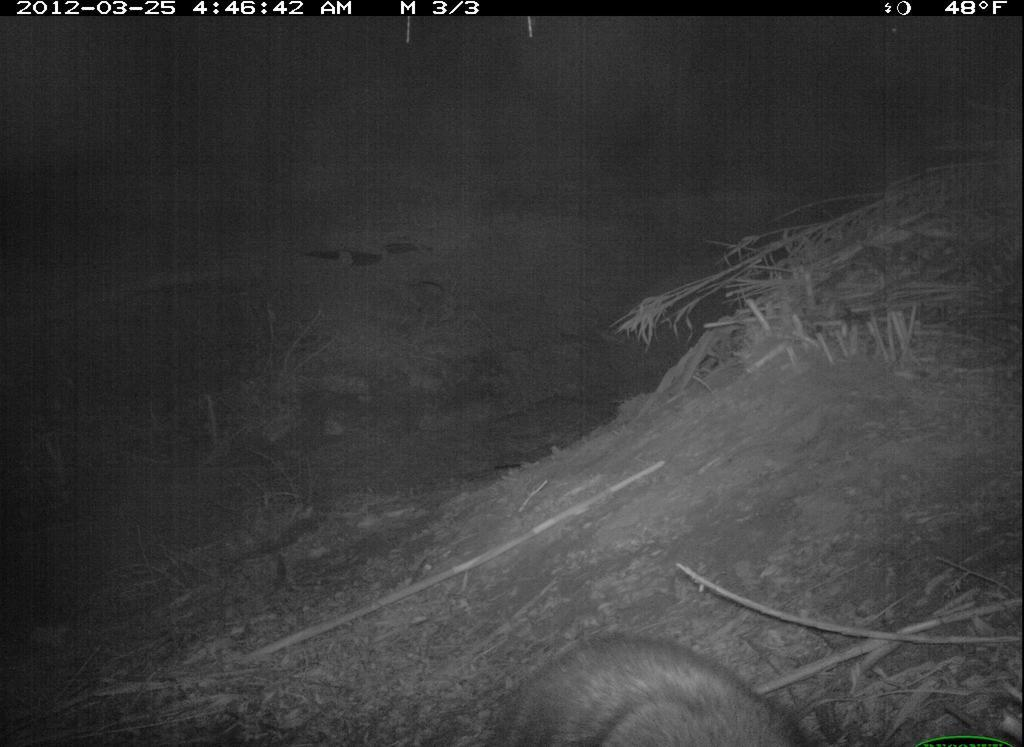raccoon: (475, 628, 812, 747)
